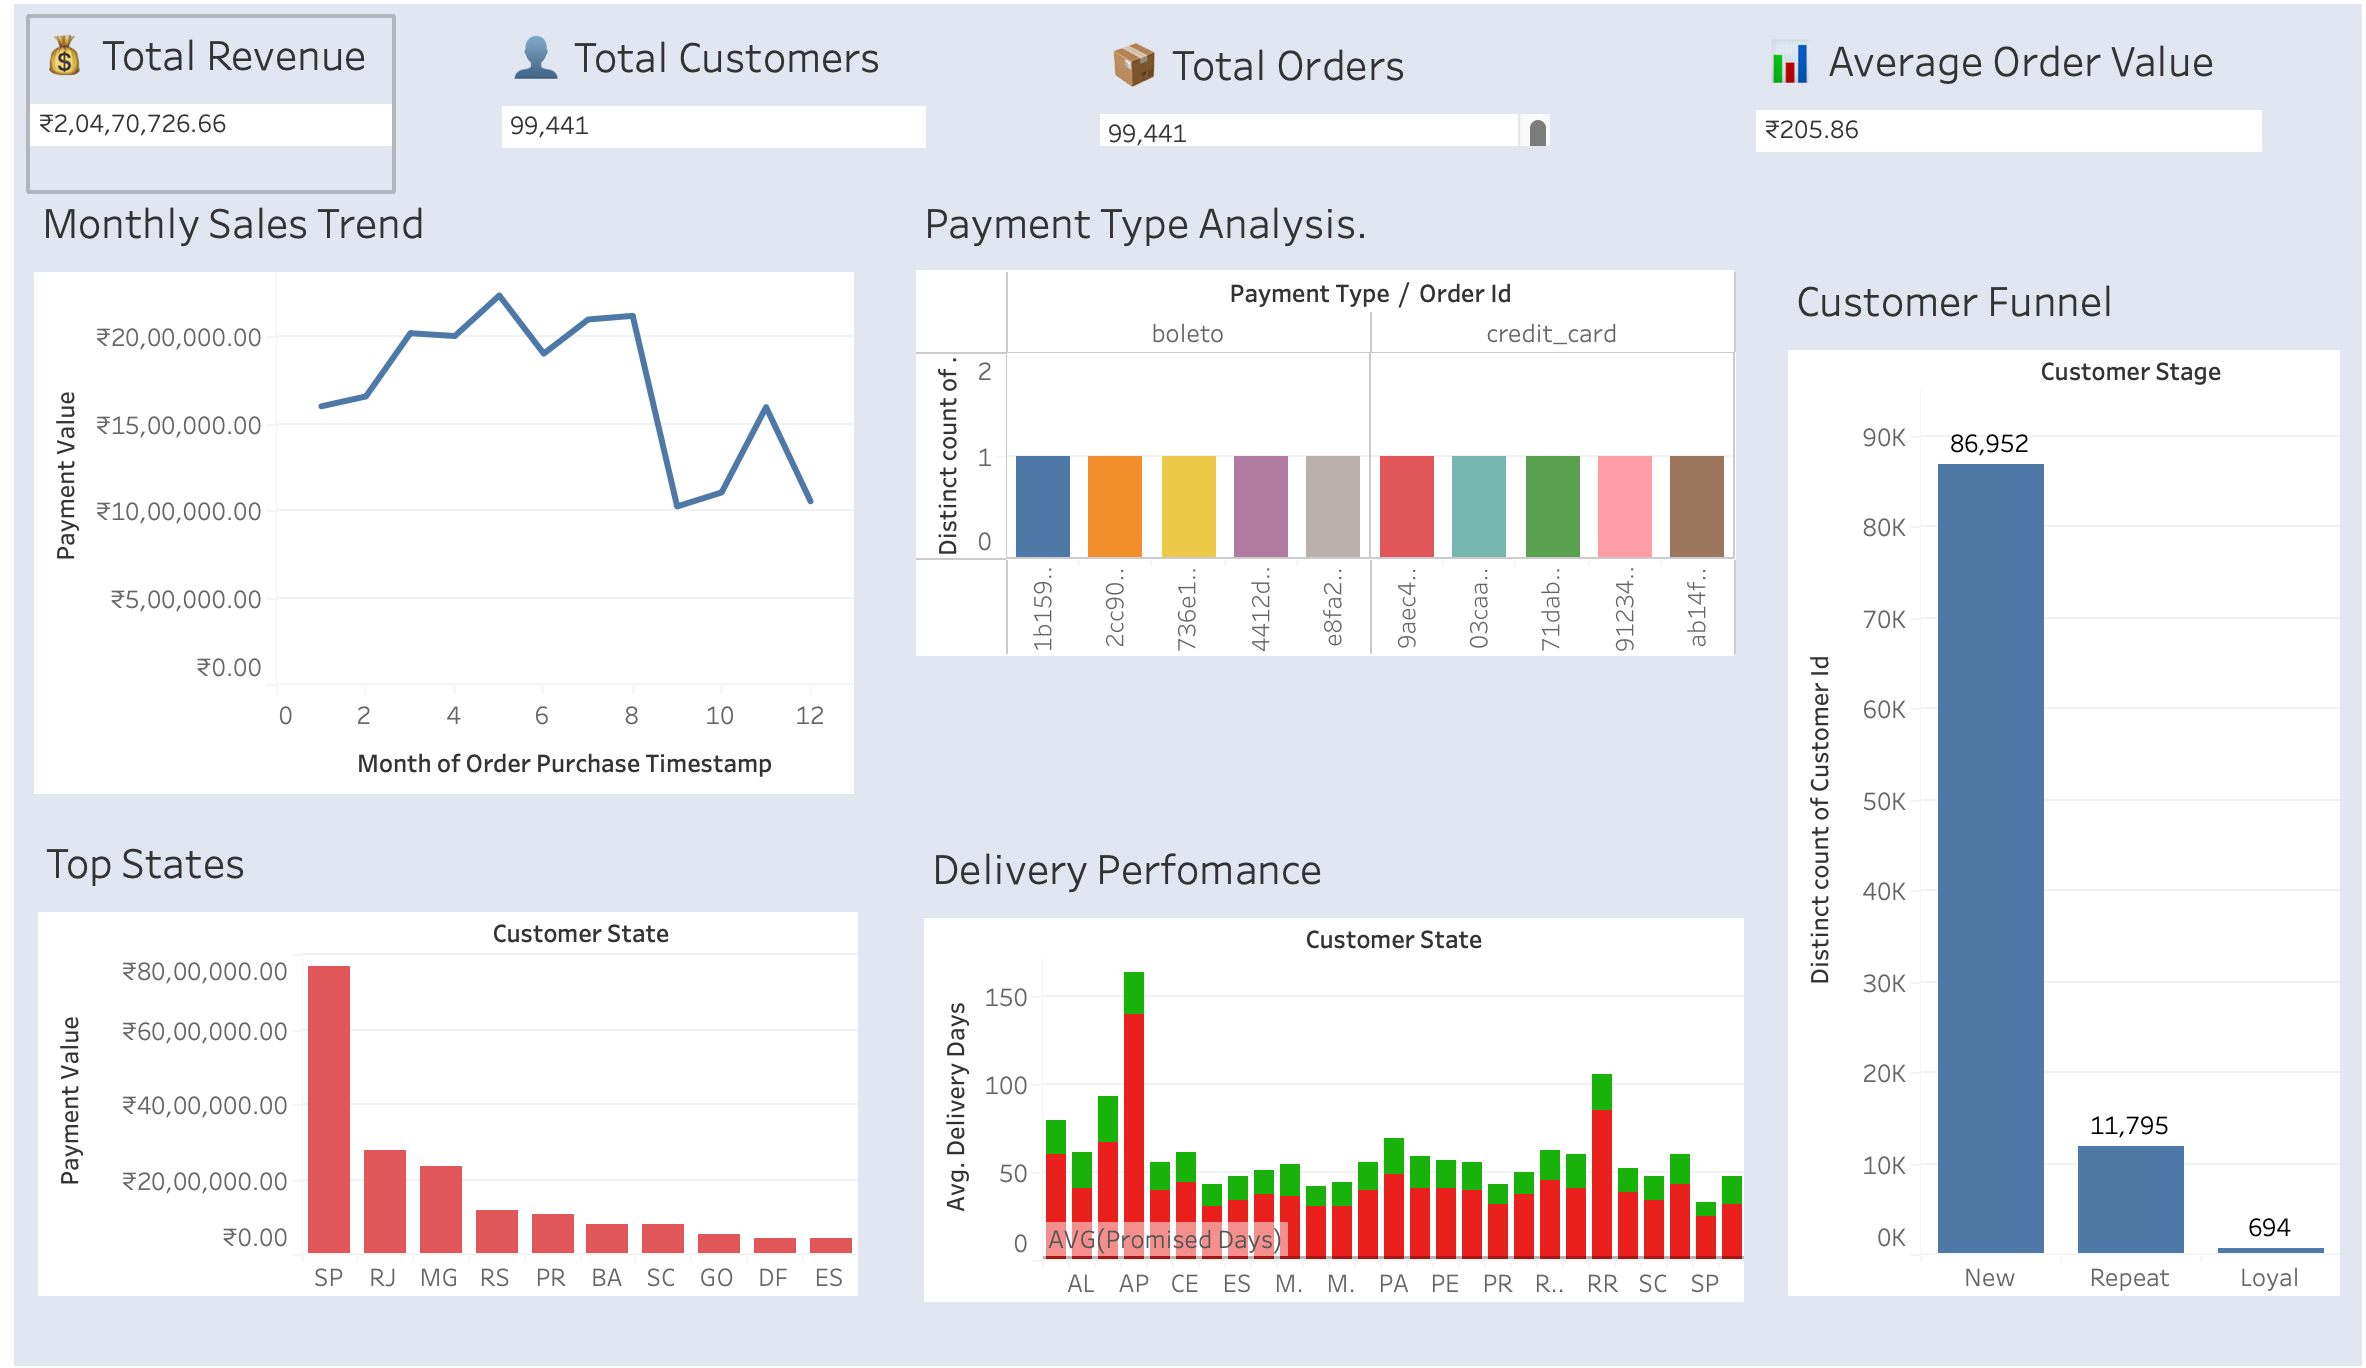

The page's visual inventory and layout, read from the dashboard file:
{"tool":"tableau","page":{"name":"E-Commerce Business Analysis","canvas":[1000,1000],"units":"permille","ordinal":0},"visuals":[{"type":"legend","title":"Payment Type Analysis.","param":"[federated.076oy5k1jh1x9k19cu4to0zfv37t].[none:order_id:nk]","box":[967.5,11.3,26,320.6]},{"type":"worksheet","title":"💰 Total Revenue","mark":"Automatic","box":[16.3,26.9,147.2,122]},{"type":"worksheet","title":"👤 Total Customers","mark":"Automatic","box":[207.9,28.4,172.7,96.5]},{"type":"worksheet","title":"📊 Average Order Value","mark":"Automatic","box":[717.5,31.2,206.2,102.1]},{"type":"worksheet","title":"📦 Total Orders","mark":"Automatic","box":[451,34,183.6,83.7]},{"type":"worksheet","title":"Monthly Sales Trend","mark":"Automatic","rows":["payment_value"],"cols":["order_purchase_timestamp"],"box":[17.9,146.1,333.3,431.2]},{"type":"worksheet","title":"Payment Type Analysis.","mark":"Automatic","rows":["order_id"],"cols":["payment_type","order_id"],"box":[376.4,146.1,333.3,333.3]},{"type":"worksheet","title":"Customer Funnel","mark":"Automatic","rows":["customer_id"],"cols":["Calculation_2570922119720382469"],"box":[730.9,201.4,224.4,731.9]},{"type":"legend","title":"Delivery Perfomance","param":"[federated.076oy5k1jh1x9k19cu4to0zfv37t].[none:Calculation_2570922119717339139:o","box":[967.5,331.9,26,93.6]},{"type":"parameter","param":"[Parameters].[Parameter 1]","box":[967.5,425.5,26,73.8]},{"type":"parameter","param":"[Parameters].[Parameter 2]","box":[967.5,499.3,26,73.8]},{"type":"worksheet","title":"Top States","mark":"Automatic","rows":["payment_value"],"cols":["customer_state"],"box":[19.5,600,333.3,333.3]},{"type":"worksheet","title":"Delivery Perfomance","mark":"Automatic","rows":["Calculation_2570922119717240834"],"cols":["customer_state"],"box":[379.7,604.3,333.3,333.3]}]}

Visuals, with their boxes on the dashboard's canvas, which has no fixed pixel size, in thousandths of its width and height (x1, y1, x2, y2). These are canvas units, not pixel positions in the 2366x1368 screenshot, which may show the page scaled, cropped or inside an application window:
"Payment Type Analysis." legend: BBox(968, 11, 994, 332)
"💰 Total Revenue" worksheet: BBox(16, 27, 164, 149)
"👤 Total Customers" worksheet: BBox(208, 28, 381, 125)
"📊 Average Order Value" worksheet: BBox(718, 31, 924, 133)
"📦 Total Orders" worksheet: BBox(451, 34, 635, 118)
"Monthly Sales Trend" worksheet: BBox(18, 146, 351, 577)
"Payment Type Analysis." worksheet: BBox(376, 146, 710, 479)
"Customer Funnel" worksheet: BBox(731, 201, 955, 933)
"Delivery Perfomance" legend: BBox(968, 332, 994, 426)
parameter: BBox(968, 426, 994, 499)
parameter: BBox(968, 499, 994, 573)
"Top States" worksheet: BBox(20, 600, 353, 933)
"Delivery Perfomance" worksheet: BBox(380, 604, 713, 938)
